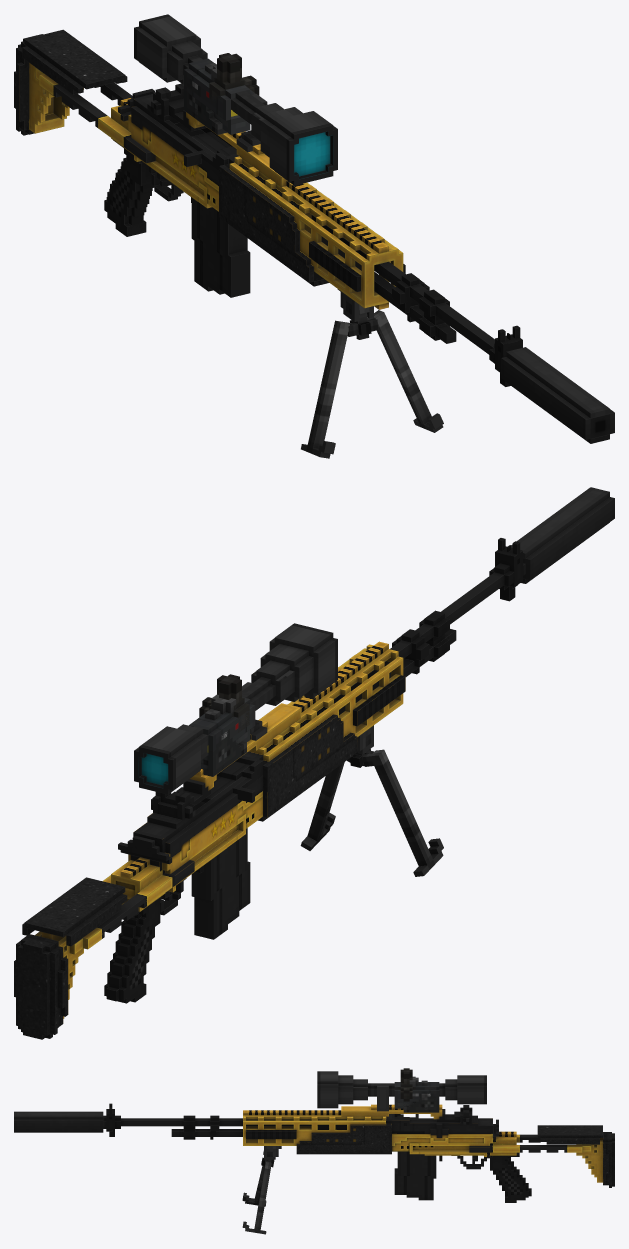
The model's file is RD_MK14EBR_VETERAN.glb.
3 renders of one model, top to bottom at view 1: azimuth 30°, elevation 25°; view 2: azimuth 150°, elevation 25°; view 3: azimuth 270°, elevation 25°, orthographic. The views are drawn at different scales.
Parts seen in each view (by area): view 1: MK14EBR, SCOPE_SCHMIDT_BENDER, SILENCER_6X6, MK14EBR_CLIP, DIPOD1_LEG1, DIPOD1_LEG2, SCOPE_TASCO, SCOPE_EOTECH, MK14EBR_PLANK, MK14EBR_BOLT, DIPOD1_BODY2; view 2: MK14EBR, SCOPE_SCHMIDT_BENDER, SILENCER_6X6, MK14EBR_CLIP, DIPOD1_LEG1, SCOPE_TASCO, DIPOD1_LEG2, MK14EBR_PLANK, MK14EBR_BOLT, SCOPE_EOTECH; view 3: MK14EBR, SCOPE_SCHMIDT_BENDER, SILENCER_6X6, MK14EBR_CLIP, SCOPE_TASCO, MK14EBR_PLANK, DIPOD1_LEG2, SCOPE_EOTECH, DIPOD1_LEG1.
Part boxes in pixels (x1,y1,x2,y2): MK14EBR: [14, 29, 522, 386]; SCOPE_SCHMIDT_BENDER: [134, 14, 337, 185]; SILENCER_6X6: [501, 347, 614, 443]; MK14EBR_CLIP: [191, 198, 250, 297]; DIPOD1_LEG1: [301, 320, 352, 458]; DIPOD1_LEG2: [367, 310, 443, 432]; SCOPE_TASCO: [184, 58, 254, 134]; SCOPE_EOTECH: [184, 79, 250, 134]; MK14EBR_PLANK: [186, 112, 286, 186]; MK14EBR_BOLT: [184, 132, 236, 170]; DIPOD1_BODY2: [347, 305, 378, 339]; MK14EBR: [14, 538, 525, 1039]; SCOPE_SCHMIDT_BENDER: [134, 623, 337, 794]; SILENCER_6X6: [511, 487, 614, 583]; MK14EBR_CLIP: [191, 828, 250, 939]; DIPOD1_LEG1: [362, 749, 443, 876]; SCOPE_TASCO: [189, 694, 255, 770]; DIPOD1_LEG2: [300, 758, 350, 850]; MK14EBR_PLANK: [190, 703, 300, 789]; MK14EBR_BOLT: [201, 759, 262, 802]; SCOPE_EOTECH: [201, 729, 250, 776]; MK14EBR: [103, 1103, 614, 1202]; SCOPE_SCHMIDT_BENDER: [317, 1068, 486, 1111]; SILENCER_6X6: [14, 1111, 103, 1132]; MK14EBR_CLIP: [394, 1151, 436, 1200]; SCOPE_TASCO: [394, 1076, 439, 1112]; MK14EBR_PLANK: [341, 1104, 442, 1117]; DIPOD1_LEG2: [242, 1162, 271, 1234]; SCOPE_EOTECH: [394, 1093, 439, 1112]; DIPOD1_LEG1: [242, 1165, 266, 1206].
Bounding box in the file's own units: 0.2497 × 0.5453 × 1.99.
8 materials, 8 textured.
